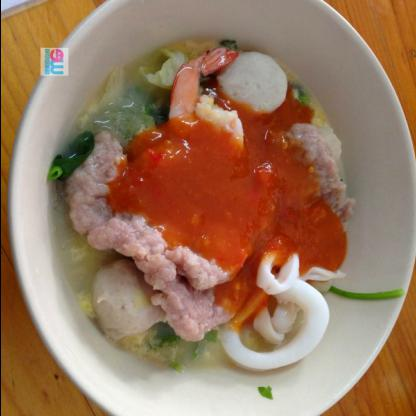Suki: (35, 38, 368, 402)
